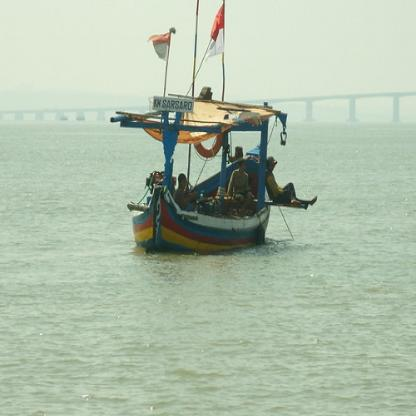fishing boat: (114, 43, 299, 261)
